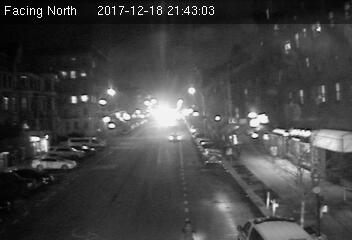car: (202, 149, 223, 165), (167, 131, 182, 143)
police: (237, 211, 308, 240)
